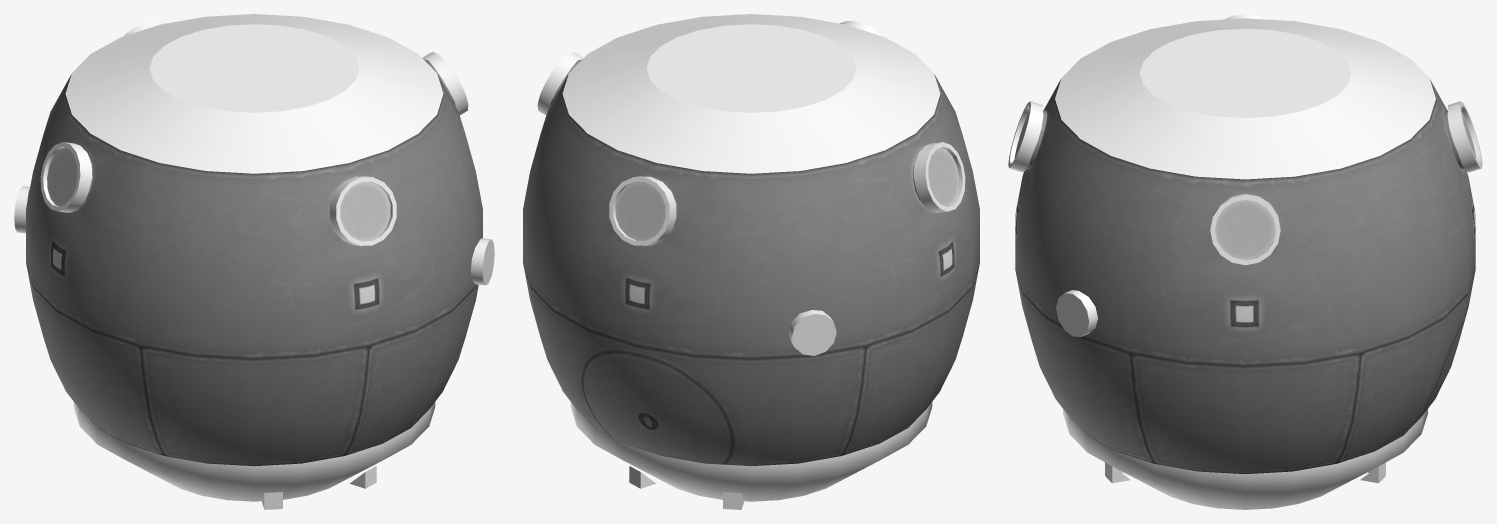
File: tantares_orbital_module_s1_1_interior.obj
3 renders of one model, left to right at view 1: azimuth 30°, elevation 25°; view 2: azimuth 150°, elevation 25°; view 3: azimuth 270°, elevation 25°, orthographic.
Visible parts, largest first — view 1: mesh2, mask, windows2; view 2: mesh2, mask, windows2; view 3: mesh2, mask, windows2.
Part boxes in pixels (x1,y1,x2,y2): mesh2: [26, 60, 482, 466]; mask: [14, 14, 494, 509]; windows2: [47, 147, 390, 240]; mesh2: [523, 60, 979, 466]; mask: [537, 14, 965, 509]; windows2: [615, 147, 958, 240]; mesh2: [1015, 79, 1475, 474]; mask: [1008, 14, 1482, 509]; windows2: [1014, 112, 1476, 259].
Bounding box in the file's own units: 1.26 × 1.15 × 1.26.
Materials: 3 (2 with a texture image).
